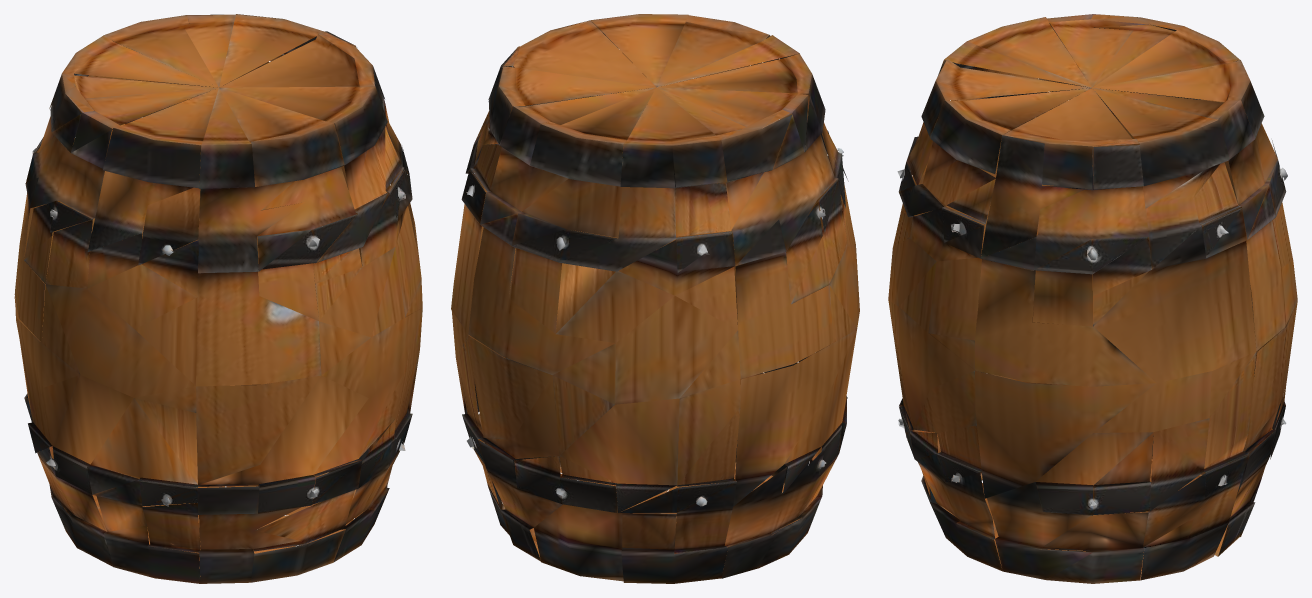
Rendered from barrel_1.glb.
3 renders of one model, left to right at view 1: azimuth 30°, elevation 25°; view 2: azimuth 150°, elevation 25°; view 3: azimuth 270°, elevation 25°, orthographic.
Parts seen in each view (by area): view 1: Mesh_0; view 2: Mesh_0; view 3: Mesh_0.
Boxes of the visible parts, x1,y1,x2,y2 form: Mesh_0: (14,14,422,583); Mesh_0: (451,14,859,583); Mesh_0: (888,14,1297,583).
Size of the model in its own units: 0.592 by 0.7041 by 0.5938.
1 material, 1 textured.
